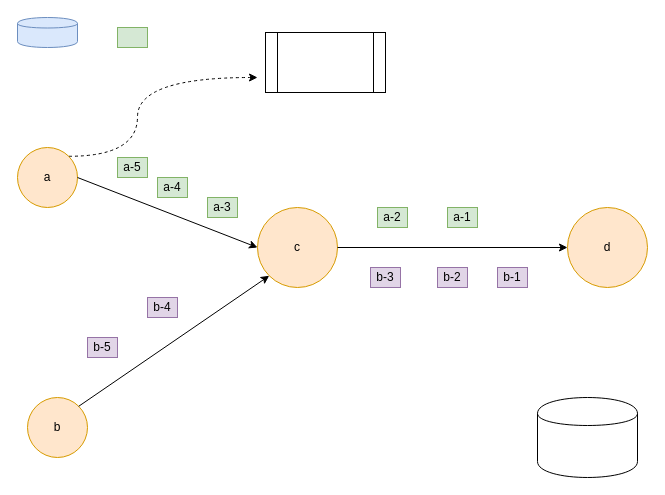
Image size: 665x495. Some labels were removed from this diagram. The shapes that lost their labels are listed below. From the top down, each one's centre as x and y in pixels, then its label:
the point at 47,32: state
the point at 325,62: checkpoint coord
